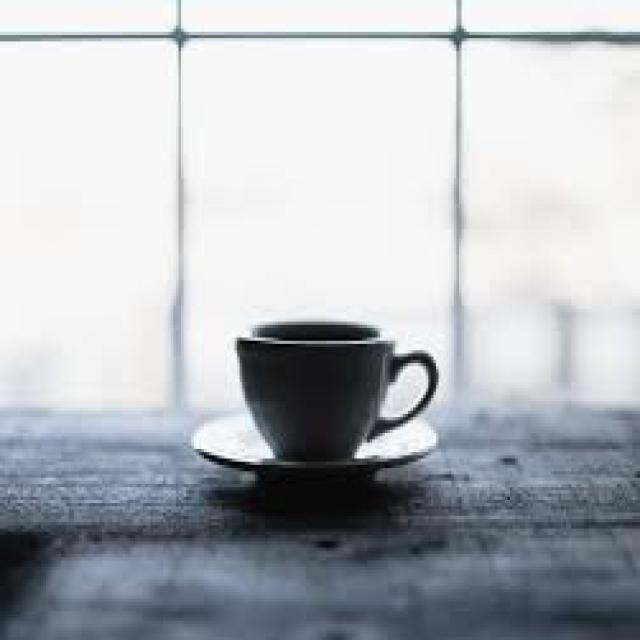taza: (187, 301, 453, 495)
